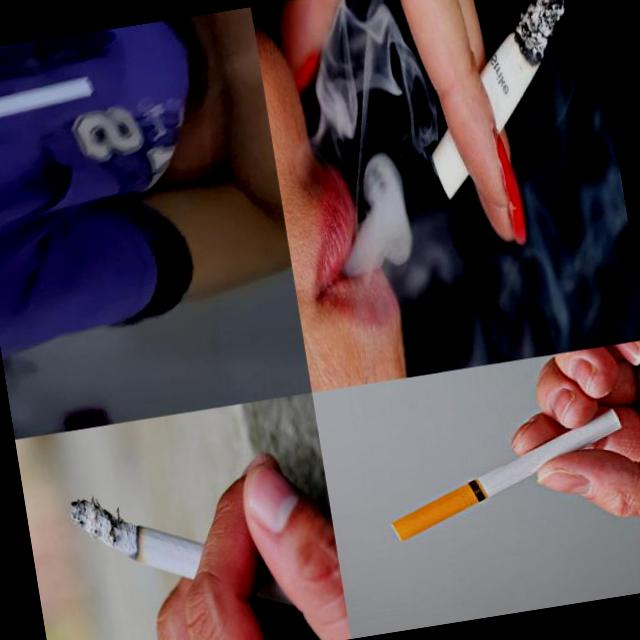smoke: (68, 465, 310, 640), (406, 0, 594, 203), (375, 406, 639, 548), (0, 72, 103, 136)
